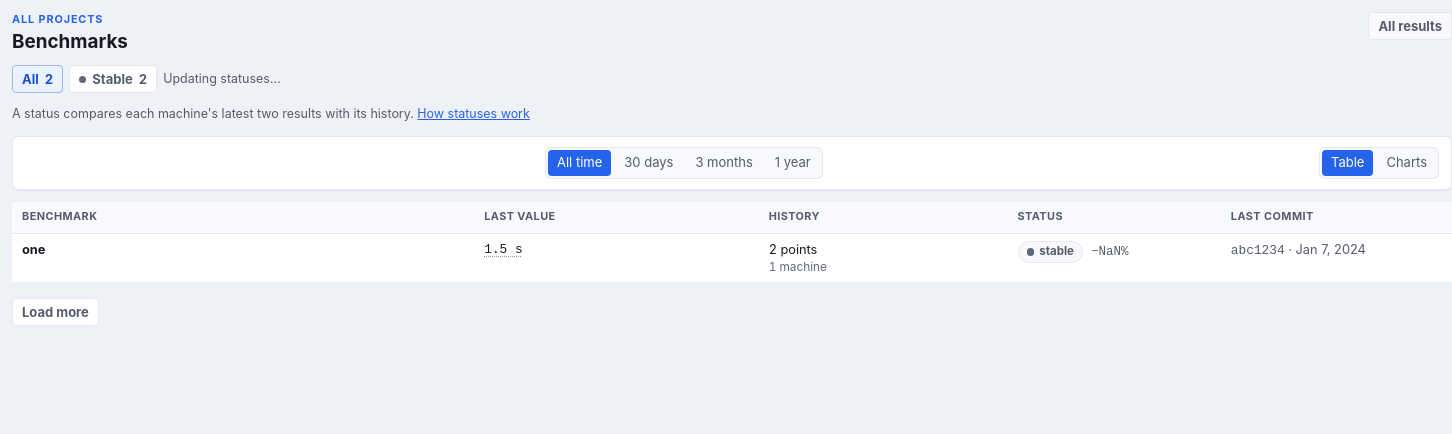
it: SeriesBrowse › keeps refreshing the first page when Load more fails
Click the button "Load more": [55, 312] box [12,298,99,326]
Wait 3000 ms
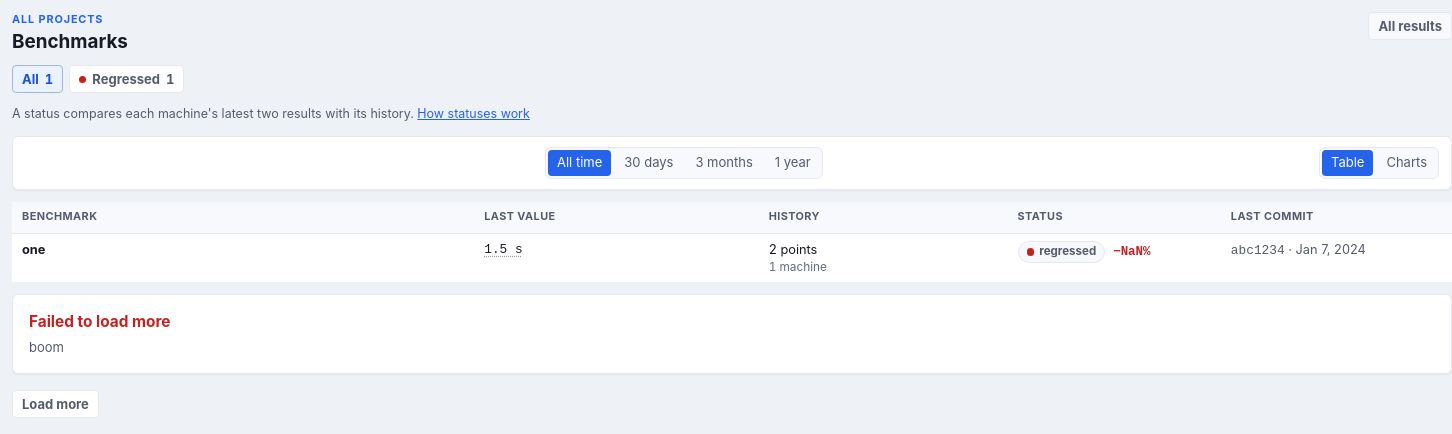
Now the heading "Failed to load more" is shown, box [29,312,170,331]
Now the text "regressed" is shown, box [1018,241,1105,263]
